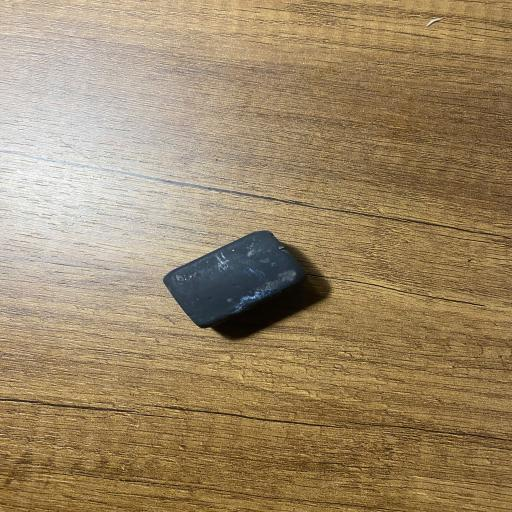T: (159, 231, 306, 326)
